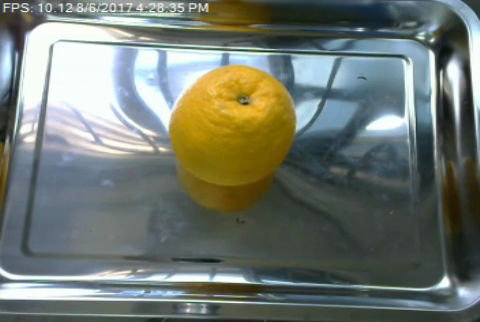Orange: (169, 65, 298, 186)
